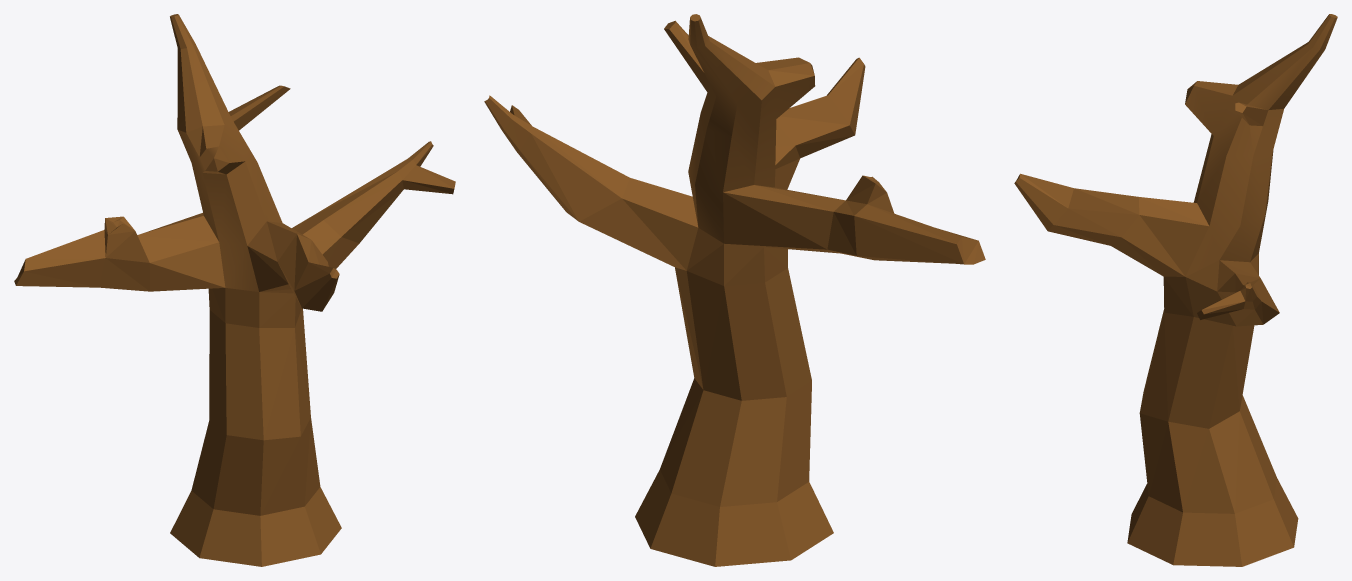
Rendered from no grass tree.FBX.
The picture shows the model from 3 angles, left to right: view 1: azimuth 30°, elevation 25°; view 2: azimuth 150°, elevation 25°; view 3: azimuth 270°, elevation 25°; orthographic projection. The views are drawn at different scales.
Visible parts, largest first — view 1: Tree_Dead_02; view 2: Tree_Dead_02; view 3: Tree_Dead_02.
Boxes of the visible parts, x1,y1,x2,y2 form: Tree_Dead_02: [14, 14, 455, 566]; Tree_Dead_02: [484, 14, 985, 566]; Tree_Dead_02: [1014, 14, 1337, 566].
Bounding box in the file's own units: 108 × 117 × 68.15.
